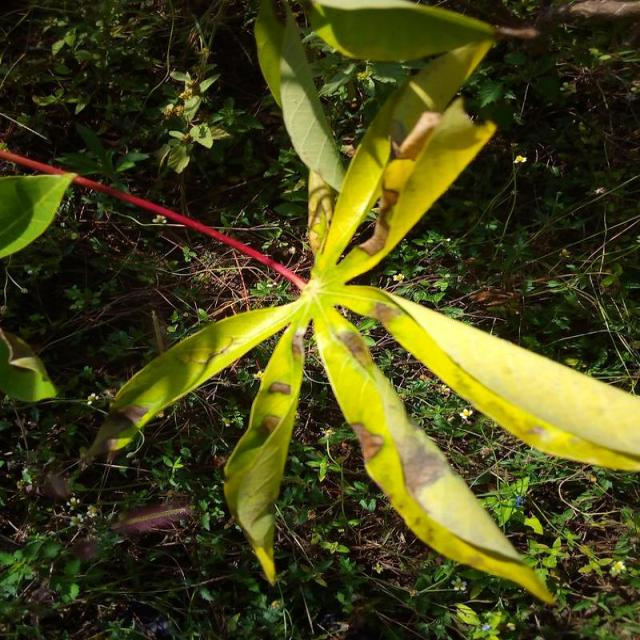cassava leaf: (80, 1, 638, 605), (0, 169, 76, 259)
